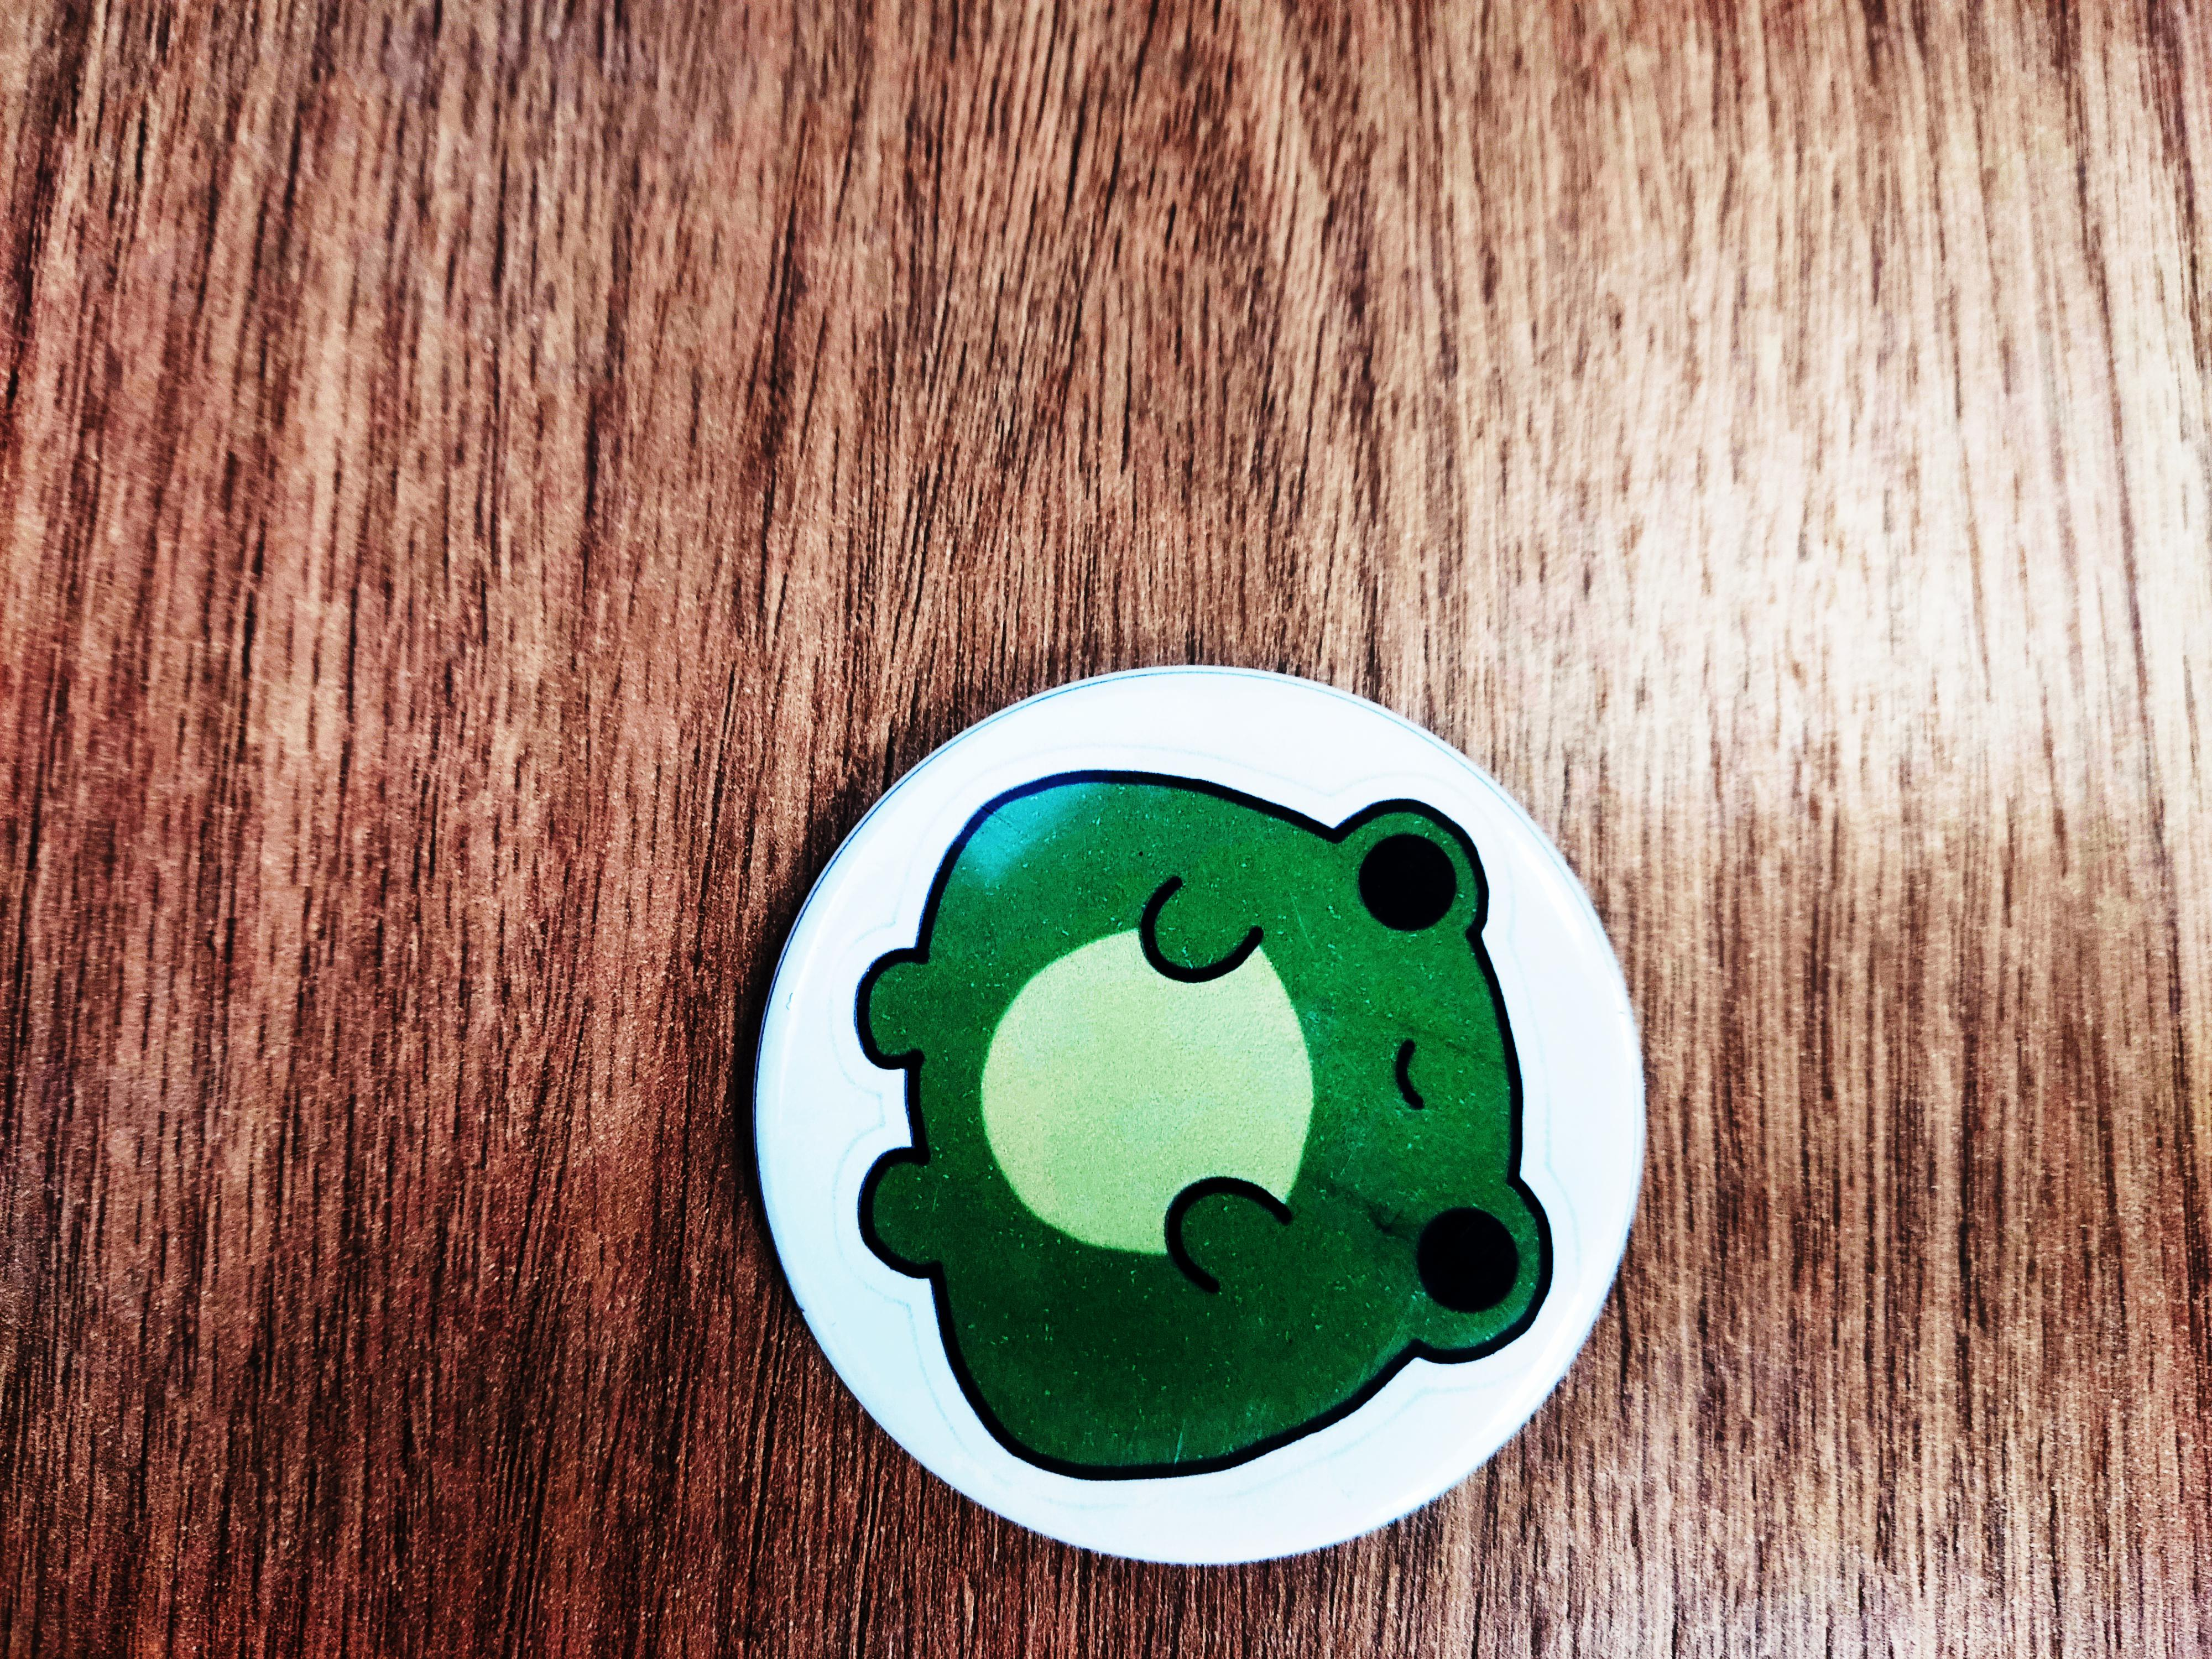pin: (704, 645, 1667, 1565)
